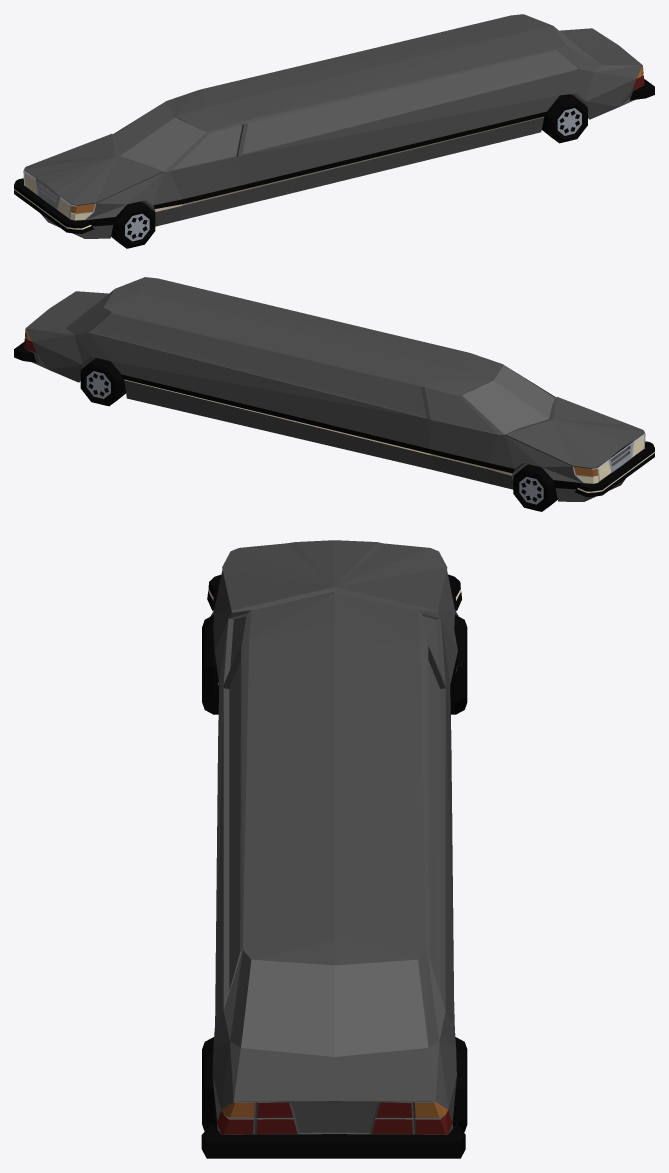
Rendered from Car_5.fbx.
3 views of the same model, one above another, from view 1: azimuth 30°, elevation 25°; view 2: azimuth 150°, elevation 25°; view 3: azimuth 270°, elevation 25° (orthographic). The views are drawn at different scales.
Visible parts, largest first — view 1: car body.005, front wheels.014, front wheels.012; view 2: car body.005, front wheels.014, front wheels.012; view 3: car body.005, front wheels.012, front wheels.014.
Part boxes in pixels (bbox=[...]): car body.005: bbox=[14, 14, 654, 238]; front wheels.014: bbox=[541, 94, 587, 143]; front wheels.012: bbox=[111, 201, 155, 248]; car body.005: bbox=[14, 277, 654, 501]; front wheels.014: bbox=[80, 358, 125, 406]; front wheels.012: bbox=[513, 464, 557, 511]; car body.005: bbox=[201, 540, 465, 1158]; front wheels.012: bbox=[202, 615, 467, 714]; front wheels.014: bbox=[202, 1037, 467, 1132].
Bounding box in the file's own units: 22053 × 3350 × 4353.
